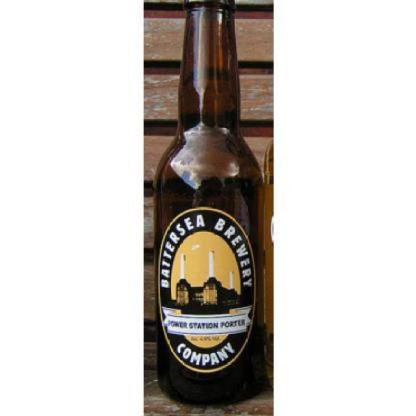Can: (154, 0, 262, 405)
